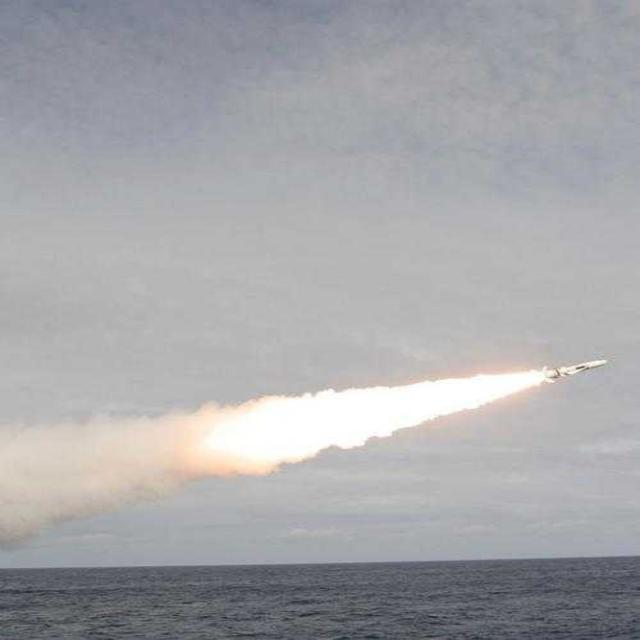missile: (551, 361, 610, 382)
